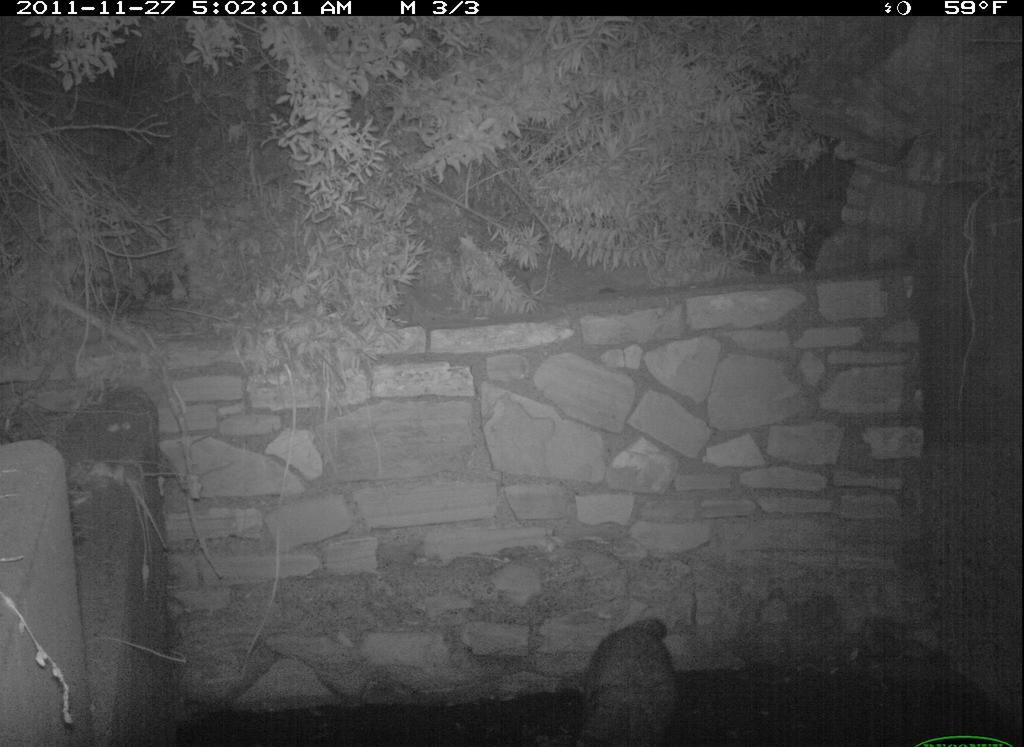raccoon: (574, 600, 713, 745)
